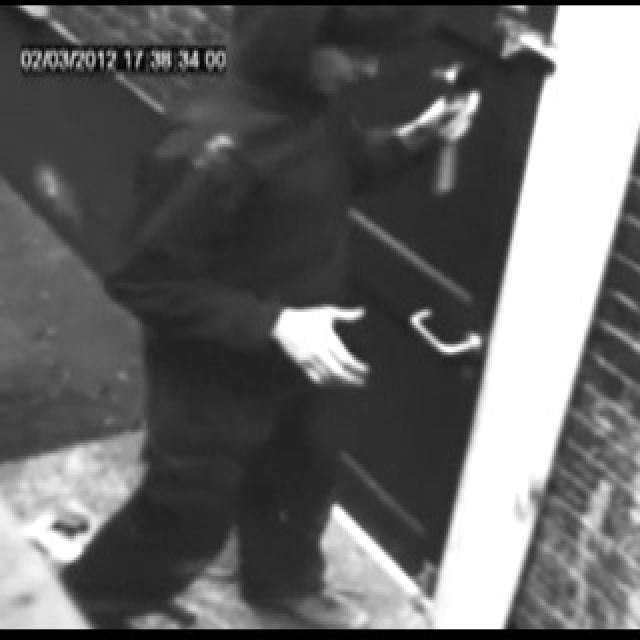thief: (219, 0, 412, 212)
